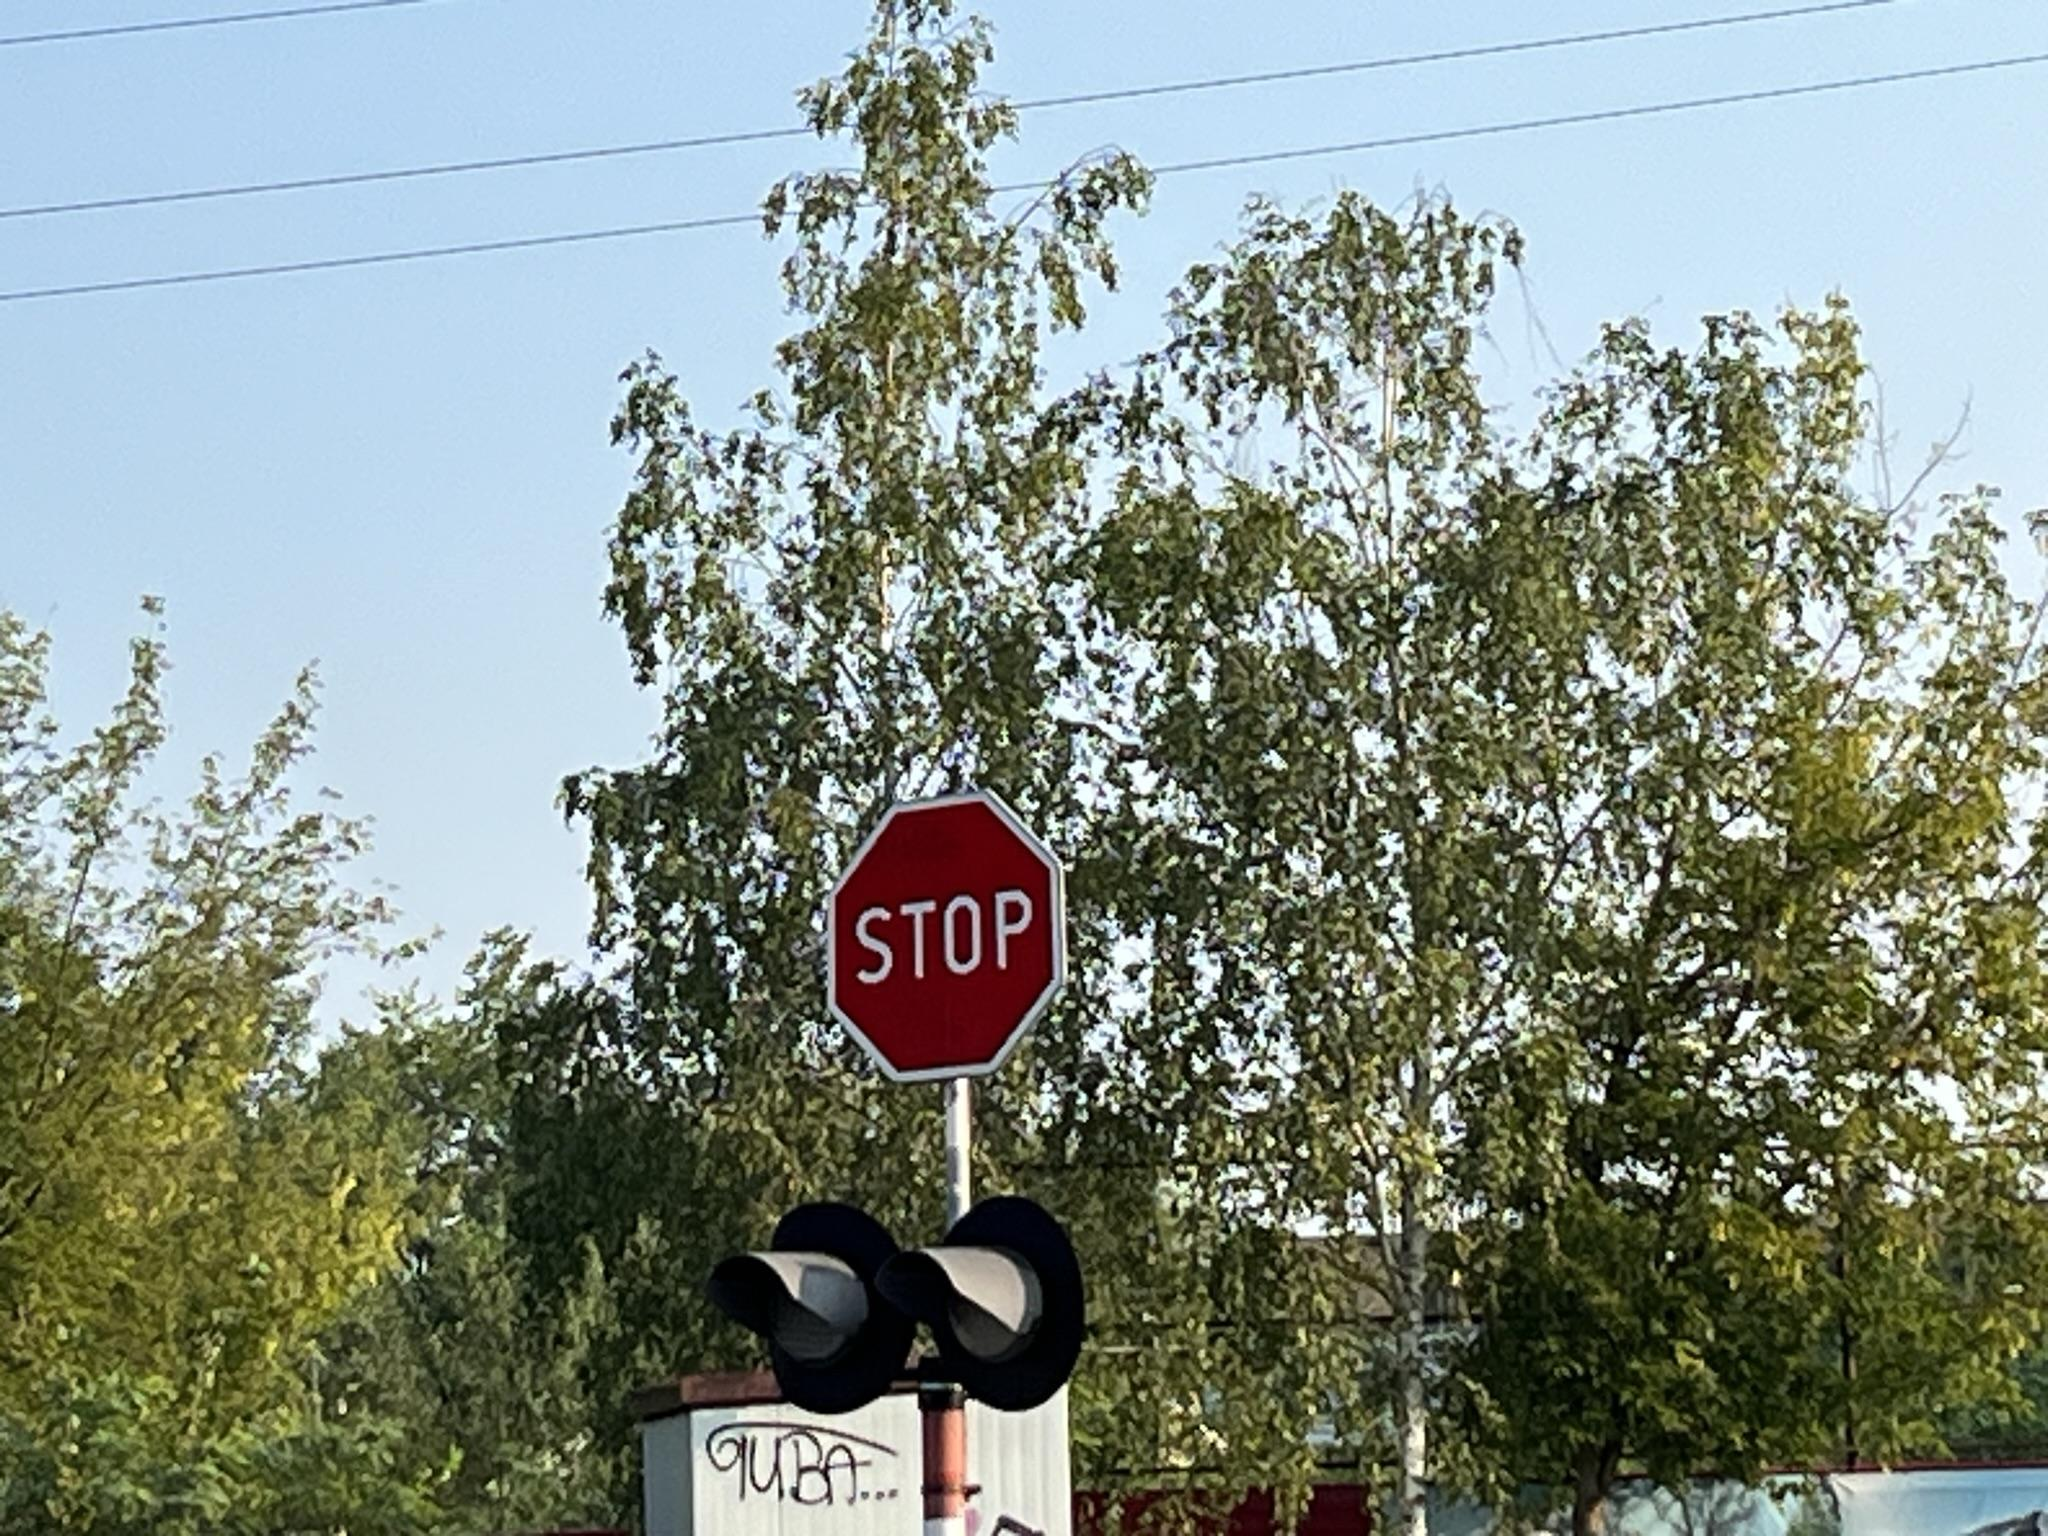prohibitory: (822, 792, 1066, 1086)
